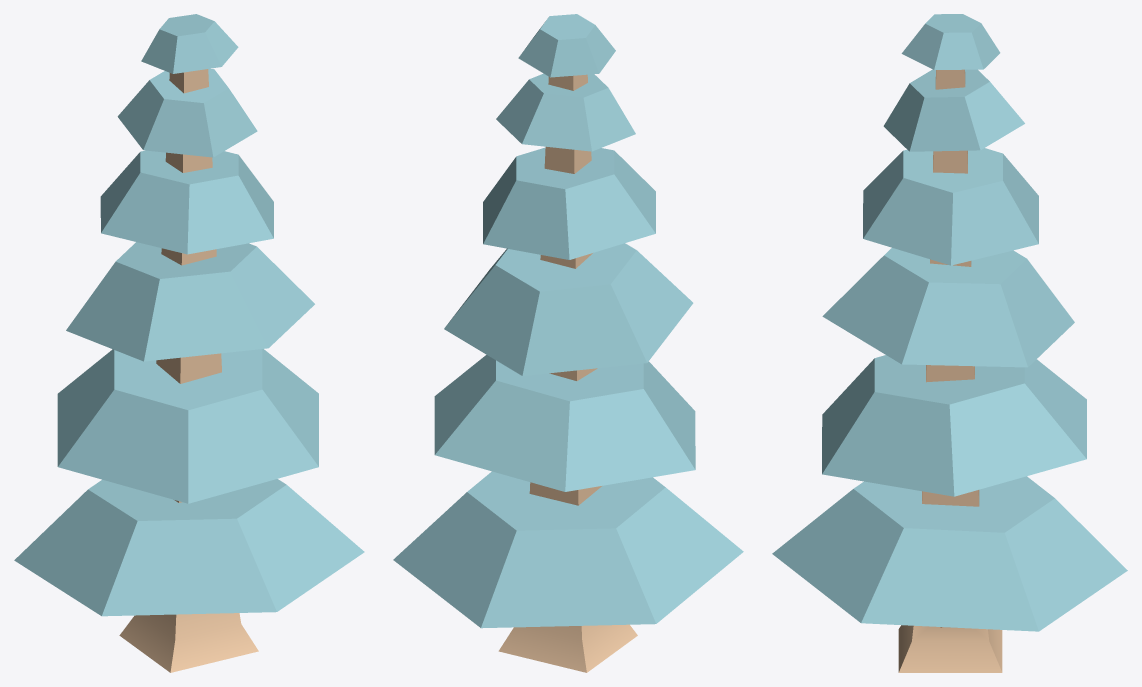
The model's file is tree_pineSmall_round5.glb.
The picture shows the model from 3 angles, left to right: view 1: azimuth 30°, elevation 25°; view 2: azimuth 150°, elevation 25°; view 3: azimuth 270°, elevation 25°; orthographic projection.
Parts seen in each view (by area): view 1: tree_pineSmall_round5; view 2: tree_pineSmall_round5; view 3: tree_pineSmall_round5.
Boxes of the visible parts, box(x1,y1,x2,y2) form: tree_pineSmall_round5: box(14, 14, 364, 672); tree_pineSmall_round5: box(393, 14, 743, 672); tree_pineSmall_round5: box(772, 14, 1127, 672).
Bounding box in the file's own units: 0.5322 × 1.2 × 0.6132.
